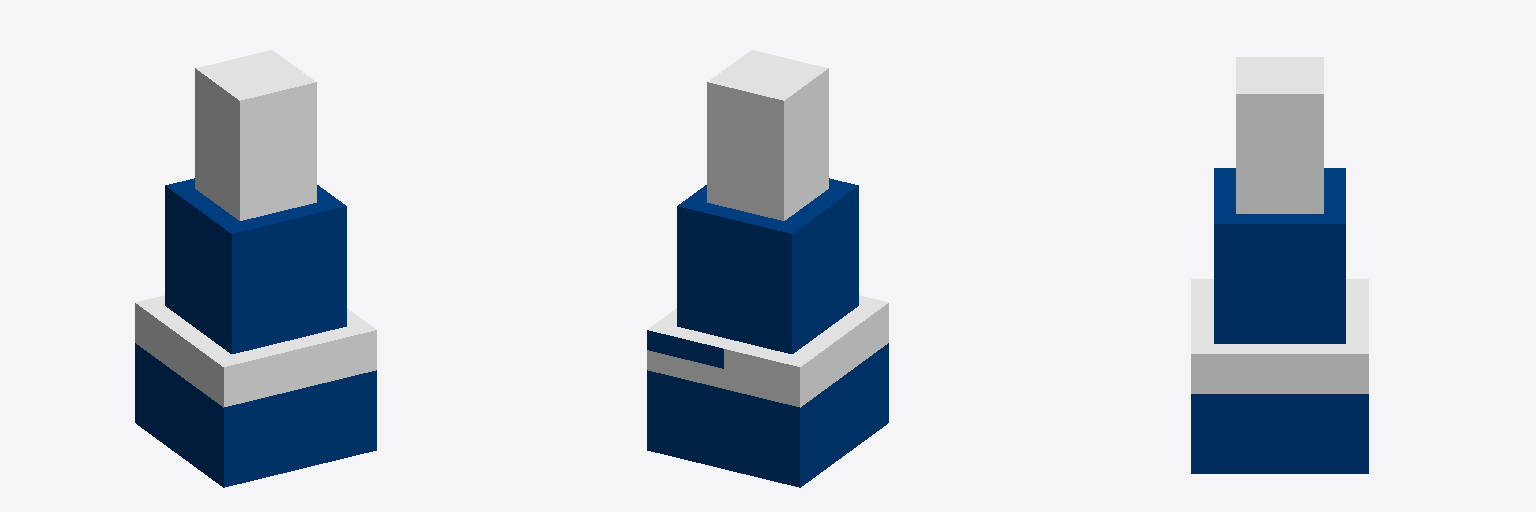
3 views of the same model, side by side, from view 1: azimuth 30°, elevation 25°; view 2: azimuth 150°, elevation 25°; view 3: azimuth 270°, elevation 25° (orthographic).
Visible parts, largest first — view 1: group_9, group_11, group_10; view 2: group_9, group_11, group_10; view 3: group_9, group_11, group_10.
Part boxes in pixels (x1,y1,x2,y2): group_9: (135,295,376,487); group_11: (165,178,346,353); group_10: (195,50,316,220); group_9: (647,295,888,487); group_11: (677,178,858,353); group_10: (707,50,828,220); group_9: (1191,279,1368,473); group_11: (1214,168,1345,343); group_10: (1236,57,1323,213).
Bounding box in the file's own units: 50.39 × 113 × 50.39.
Materials: 1 (1 with a texture image).